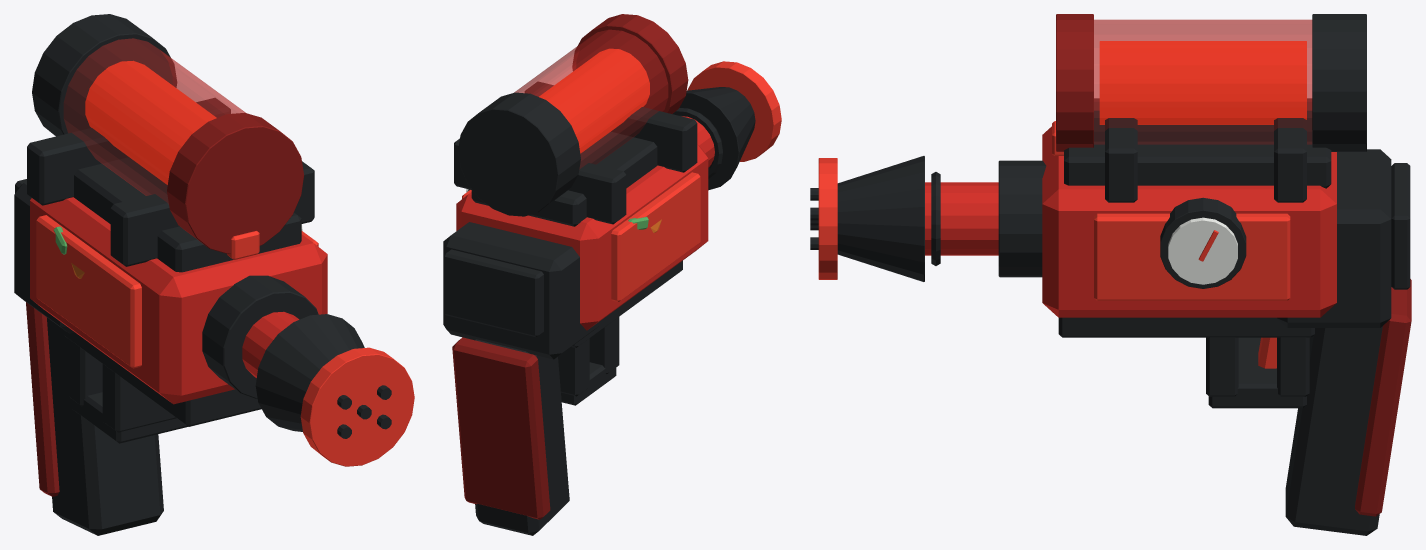
Rendered from SpicyBlaster.glb.
3 views of the same model, side by side, from view 1: azimuth 30°, elevation 25°; view 2: azimuth 150°, elevation 25°; view 3: azimuth 270°, elevation 25° (orthographic). The views are drawn at different scales.
Visible parts, largest first — view 1: FTF_Tool_ChiliMarkerSprayer_RedBlack_v1_Static, ChiliTank_GlassShell, ChiliTank_GlowCore; view 2: FTF_Tool_ChiliMarkerSprayer_RedBlack_v1_Static, ChiliTank_GlassShell, ChiliTank_GlowCore; view 3: FTF_Tool_ChiliMarkerSprayer_RedBlack_v1_Static, ChiliTank_GlassShell, ChiliTank_GlowCore.
Part boxes in pixels (x1,y1,x2,y2): FTF_Tool_ChiliMarkerSprayer_RedBlack_v1_Static: (14,14,414,535); ChiliTank_GlassShell: (64,38,245,204); ChiliTank_GlowCore: (85,61,216,184); FTF_Tool_ChiliMarkerSprayer_RedBlack_v1_Static: (443,14,781,535); ChiliTank_GlassShell: (514,30,667,168); ChiliTank_GlowCore: (539,48,649,153); FTF_Tool_ChiliMarkerSprayer_RedBlack_v1_Static: (810,14,1411,535); ChiliTank_GlassShell: (1094,19,1312,144); ChiliTank_GlowCore: (1099,41,1306,124).
Bounding box in the file's own units: 0.915 × 2.03 × 2.2.
